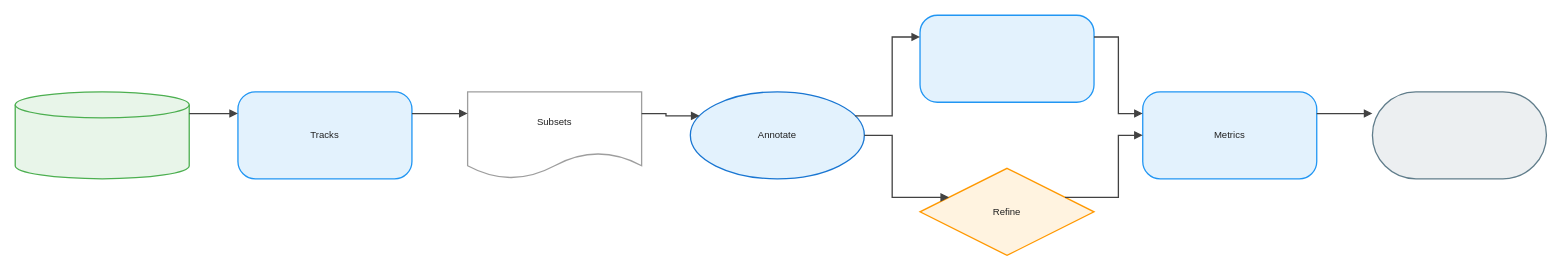
Image size: 1563x271. Some labels were removed from this diagram. Each missing label, with the centre of its shape:
"Formats" goes at point (1006, 58).
"LMMs" goes at point (1459, 135).
"Sources" goes at point (101, 135).
